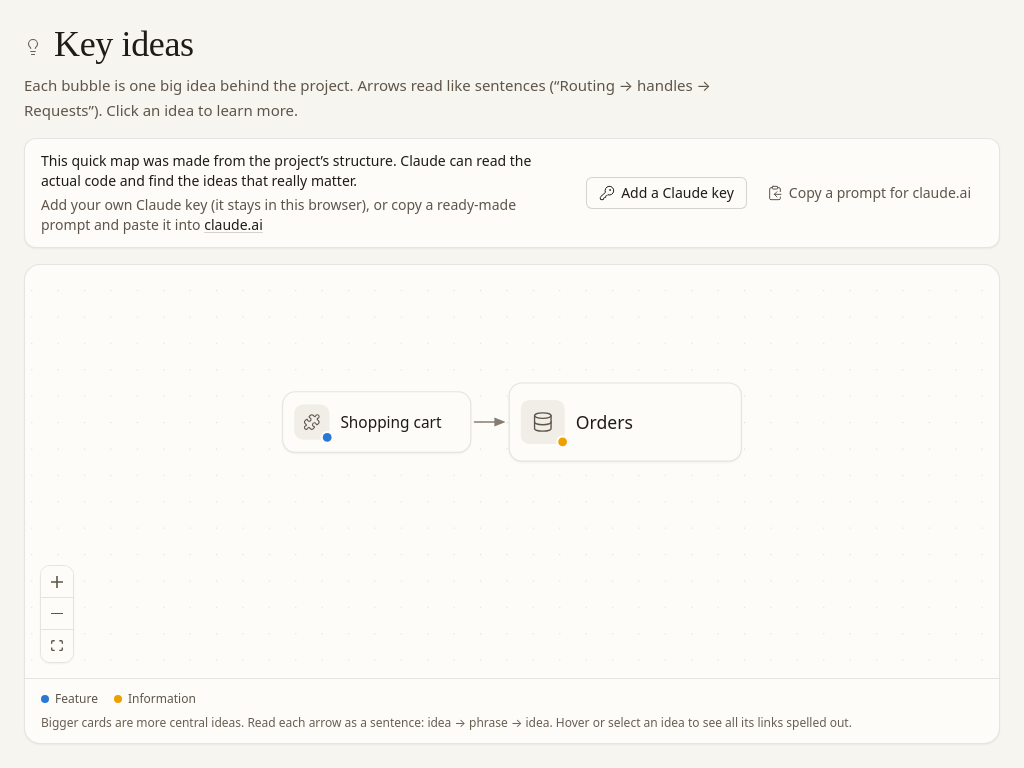
Test: ConceptsPage › copies a ready-made prompt for claude.ai
Step 1. Click the button "Copy a prompt for claude.ai" → (869, 193), box [755,177,983,209]
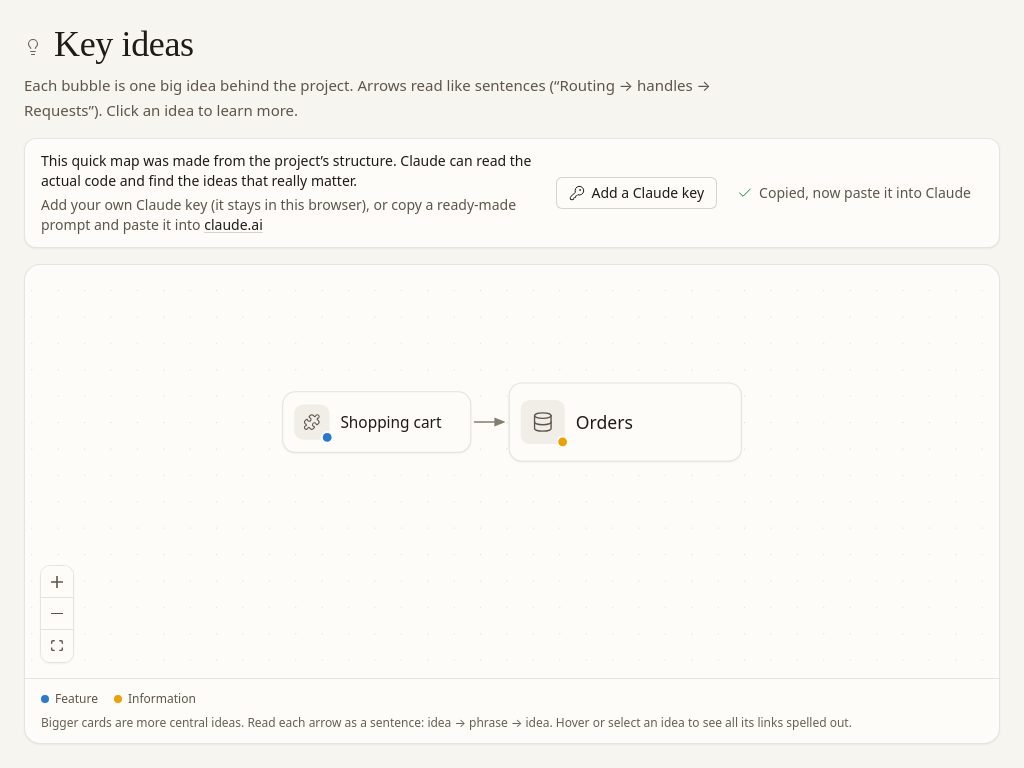
Check: the button "Copied, now paste it into Claude" is shown, box [725,177,983,209]
